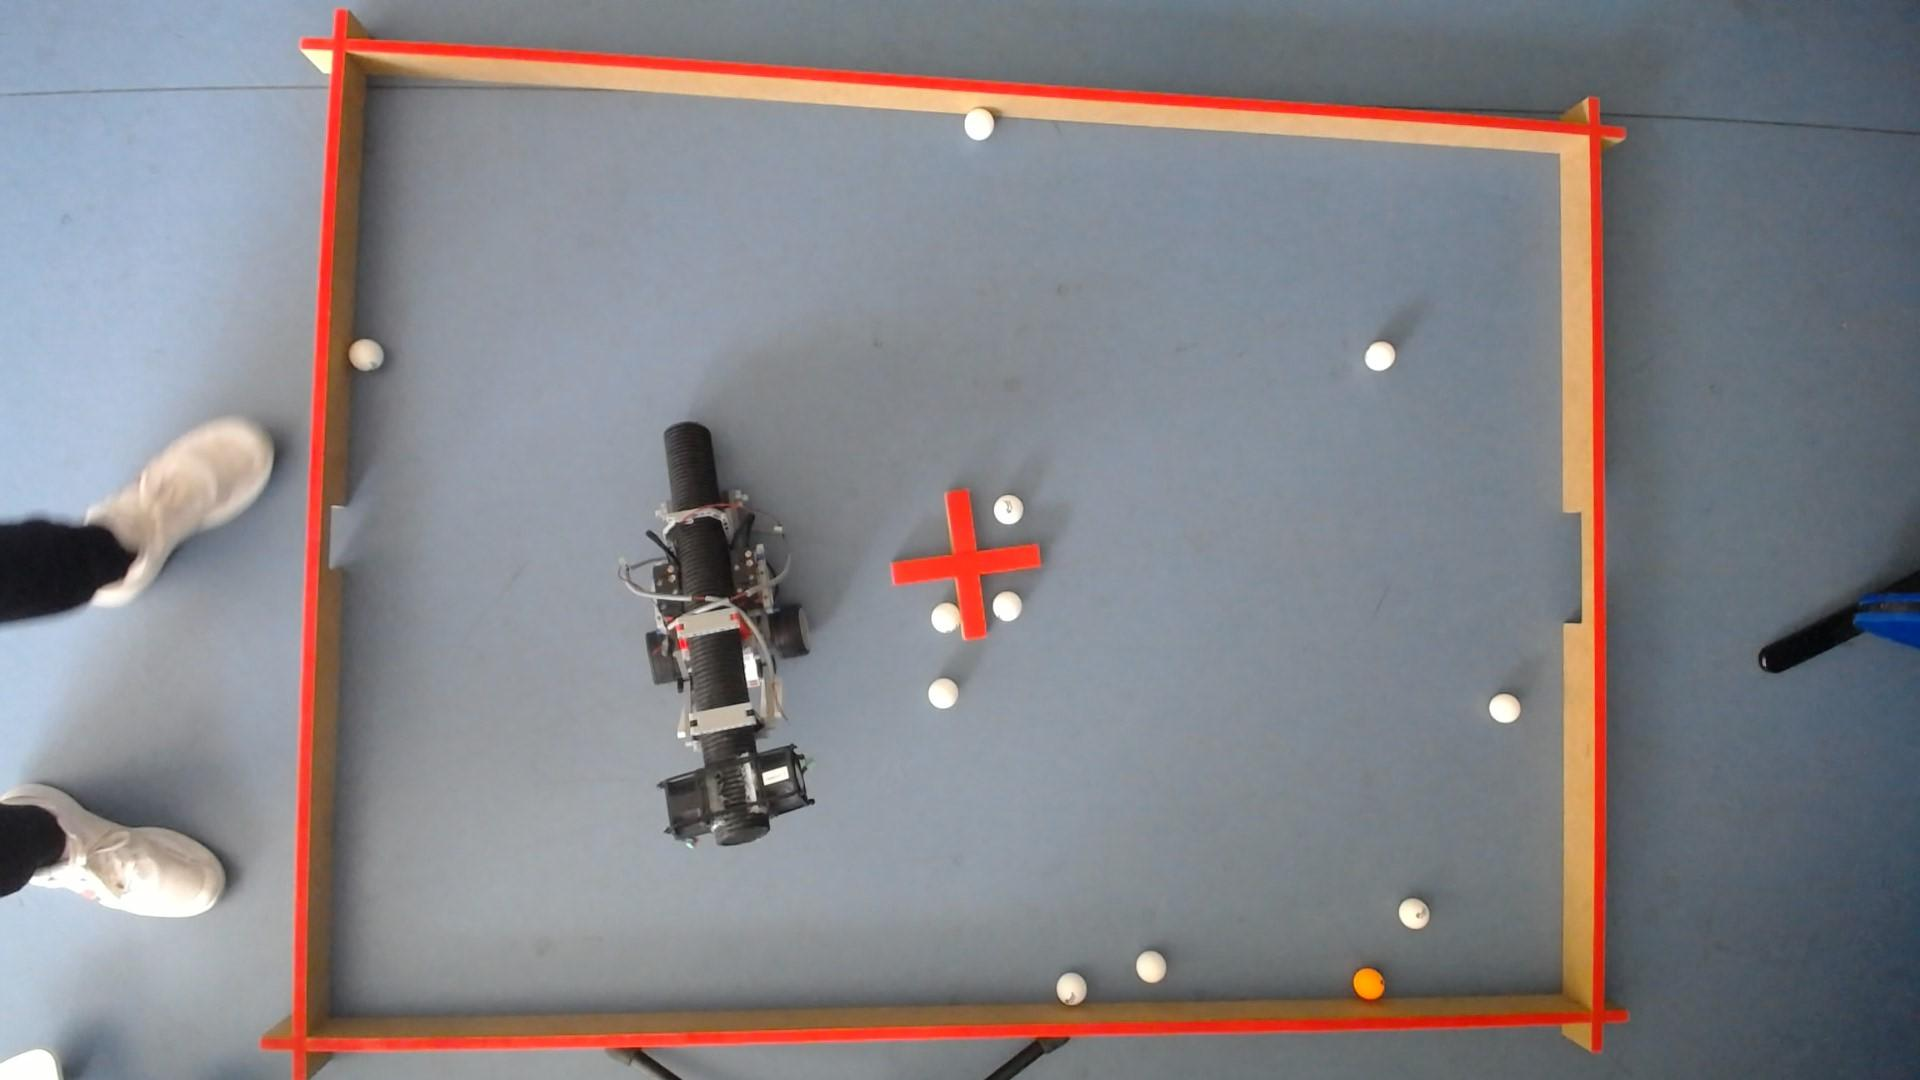orange: (1356, 968, 1386, 1001)
robot: (618, 419, 812, 847)
white: (345, 338, 382, 369), (1399, 898, 1432, 931), (1137, 951, 1168, 984), (1058, 973, 1088, 1006), (928, 676, 959, 708), (965, 105, 996, 137), (993, 591, 1023, 621), (994, 493, 1025, 524), (1367, 339, 1398, 369), (1491, 694, 1523, 723), (931, 603, 961, 632)
